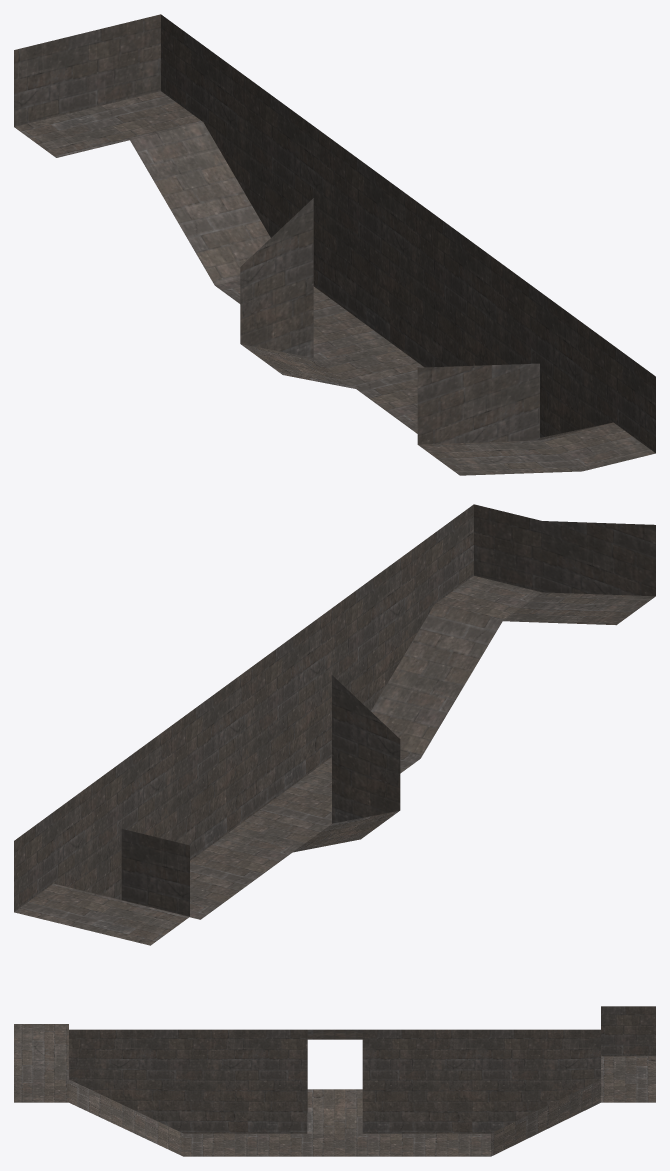
The model's file is room9.gltf.
3 views of the same model, one above another, from view 1: azimuth 30°, elevation 25°; view 2: azimuth 150°, elevation 25°; view 3: azimuth 270°, elevation 25° (orthographic). The views are drawn at different scales.
Parts seen in each view (by area): view 1: Plane.001; view 2: Plane.001; view 3: Plane.001.
Boxes of the visible parts, bbox=[...] form: Plane.001: bbox=[14, 14, 655, 475]; Plane.001: bbox=[14, 504, 655, 945]; Plane.001: bbox=[14, 1006, 655, 1156].
Bounding box in the file's own units: 8 × 7.25 × 35.
Materials: 1 (1 with a texture image).
